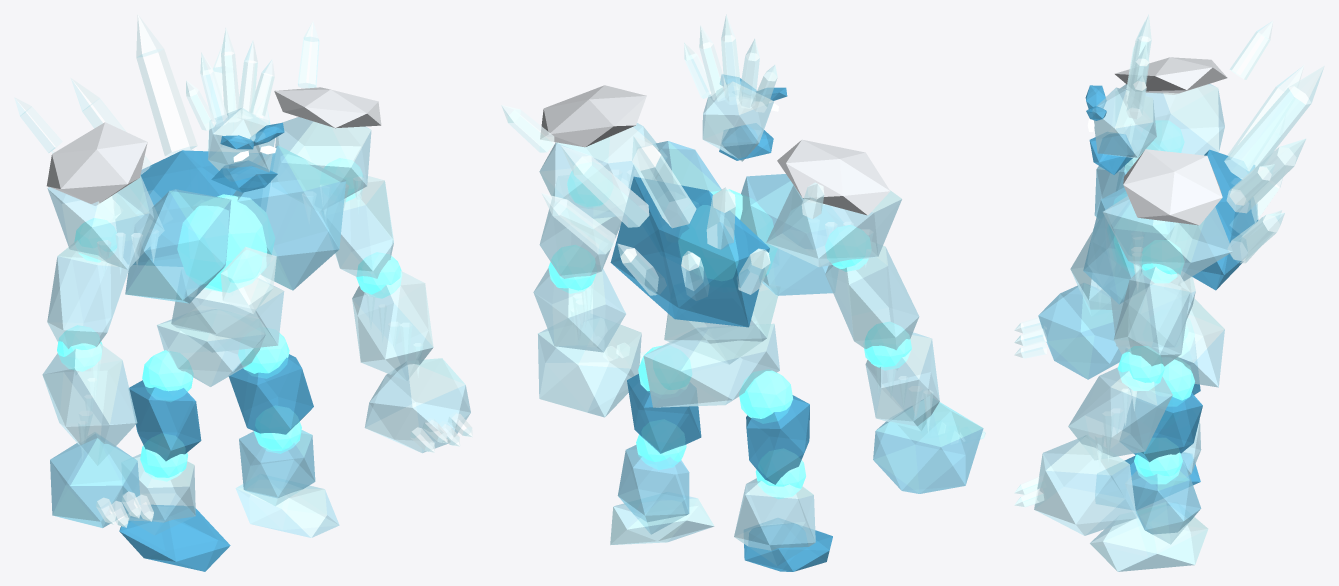
Rendered from boss-glacier-titan.glb.
3 views of the same model, side by side, from view 1: azimuth 30°, elevation 25°; view 2: azimuth 150°, elevation 25°; view 3: azimuth 270°, elevation 25° (orthographic). The views are drawn at different scales.
Visible parts, largest first — view 1: Chest_R.001, Chest_L.001, Arm_L_Seg1_0, Core_Heart, Back, Fist_R.001, Shoulder_R.001, Arm_R_Seg1_0, Fist_L.001, Shoulder_L.001, Arm_L_Seg0_0, Abdomen (+32 smaller); view 2: Back, Pelvis.001, Fist_L.001, Fist_R.001, Shoulder_R.001, Shoulder_L.001, Chest_L.001, Arm_L_Seg0_0, ShoulderSnow_L, Leg_L_Seg1_0, Arm_R_Seg1_0, Arm_L_Seg1_0 (+35 smaller); view 3: Fist_R.001, Arm_R_Seg1_0, ShoulderSnow_R, Shoulder_R.001, Arm_R_Seg0_0, Fist_L.001, Foot_R.001, Back, Chest_R.001, Shoulder_L.001, Leg_R_Seg0_0, Leg_R_Seg1_0 (+29 smaller).
Boxes of the visible parts, x1,y1,x2,y2 form: Chest_R.001: [231, 145, 345, 290]; Chest_L.001: [125, 189, 231, 303]; Arm_L_Seg1_0: [42, 343, 137, 465]; Core_Heart: [177, 194, 274, 292]; Back: [113, 150, 274, 266]; Fist_R.001: [364, 358, 470, 453]; Shoulder_R.001: [275, 117, 371, 211]; Arm_R_Seg1_0: [352, 271, 433, 380]; Fist_L.001: [50, 433, 140, 527]; Shoulder_L.001: [47, 175, 164, 269]; Arm_L_Seg0_0: [47, 240, 129, 375]; Abdomen: [171, 278, 284, 352]; Back: [610, 176, 769, 327]; Pelvis.001: [643, 323, 779, 407]; Fist_L.001: [873, 399, 983, 493]; Fist_R.001: [538, 317, 641, 417]; Shoulder_R.001: [539, 123, 667, 218]; Shoulder_L.001: [766, 185, 901, 267]; Chest_L.001: [740, 174, 838, 295]; Arm_L_Seg0_0: [825, 241, 919, 370]; ShoulderSnow_L: [777, 139, 890, 215]; Leg_L_Seg1_0: [734, 478, 815, 565]; Arm_R_Seg1_0: [533, 268, 625, 352]; Arm_L_Seg1_0: [865, 332, 939, 430]; Fist_R.001: [1034, 435, 1136, 535]; Arm_R_Seg1_0: [1068, 367, 1172, 460]; ShoulderSnow_R: [1123, 149, 1222, 225]; Shoulder_R.001: [1103, 196, 1232, 284]; Arm_R_Seg0_0: [1113, 266, 1190, 366]; Fist_L.001: [1038, 283, 1121, 379]; Foot_R.001: [1090, 505, 1208, 571]; Back: [1182, 149, 1258, 290]; Chest_R.001: [1083, 187, 1174, 304]; Shoulder_L.001: [1120, 84, 1224, 166]; Leg_R_Seg0_0: [1120, 391, 1202, 462]; Leg_R_Seg1_0: [1131, 460, 1201, 544].
Size of the model in its own units: 13.67 by 16.49 by 9.
